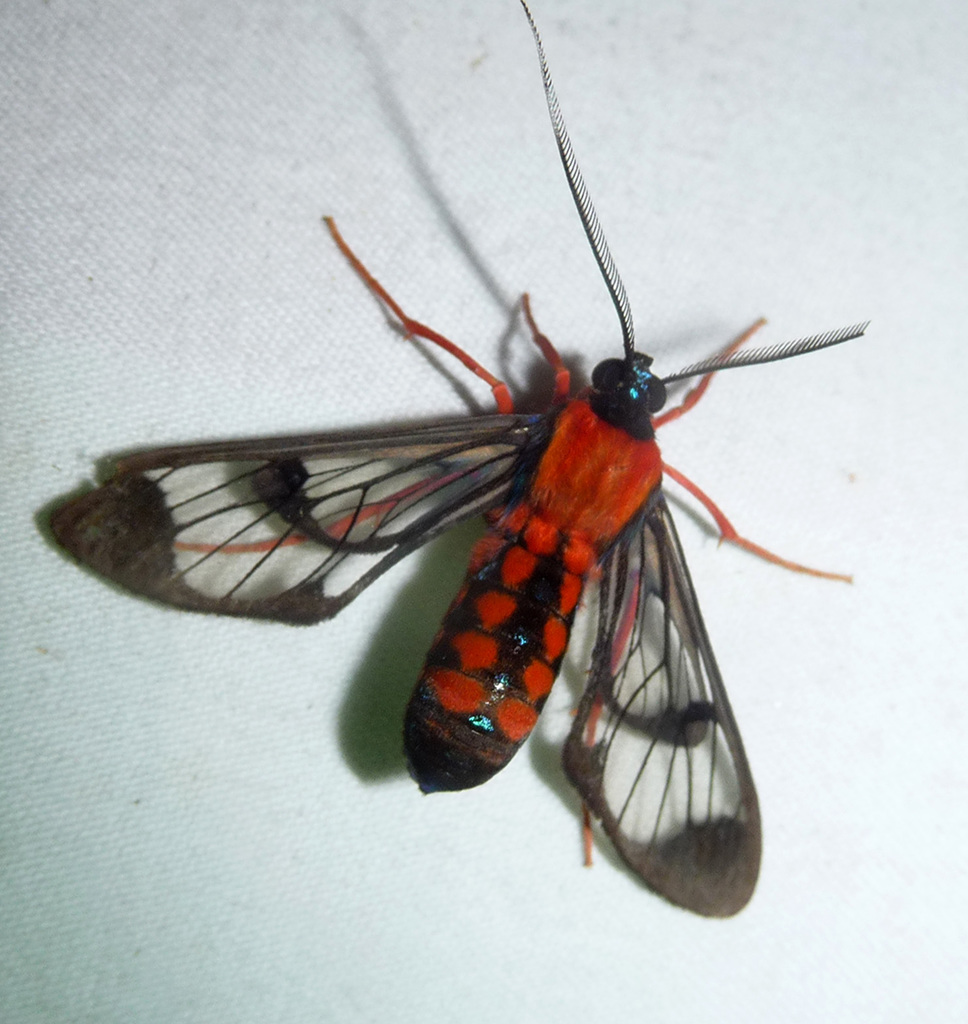Butterfly: (16, 179, 897, 947)
